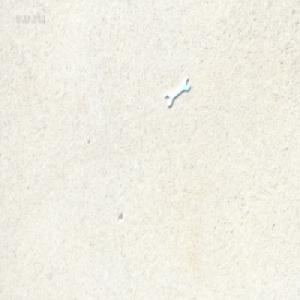Wrench: (165, 80, 188, 108)
